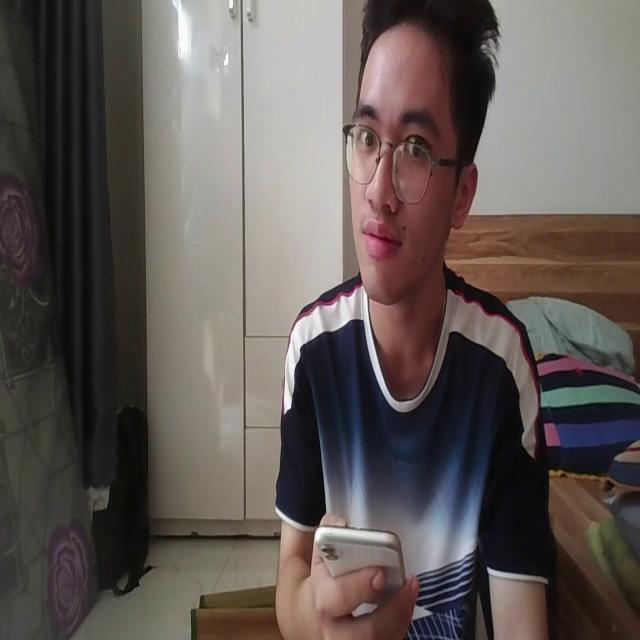phone: (309, 506, 412, 622)
student: (273, 0, 551, 640)
